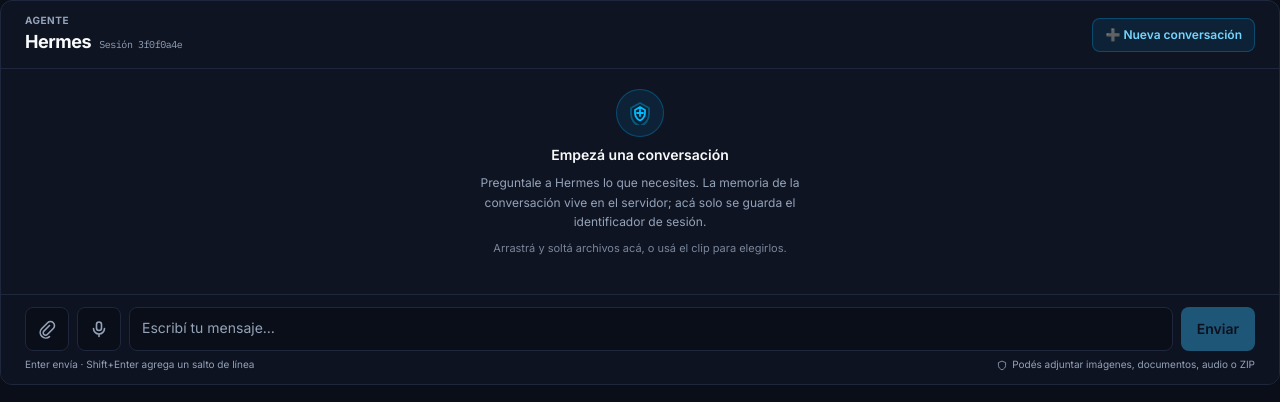
HermesChat › creates a run with the session id and the dashboard token, without Hermes headers
This screenshot has width=1280, height=402.
In the text box labelled "Escribí tu mensaje…": (651, 329) [129,307,1173,351], type "primer mensaje"
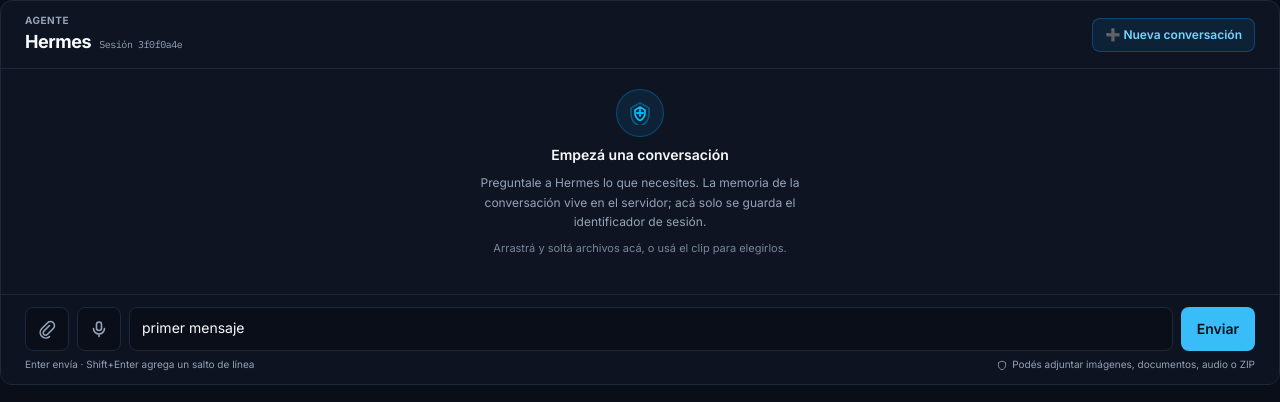
Click the button "Enviar": (1218, 329) [1181,307,1255,351]
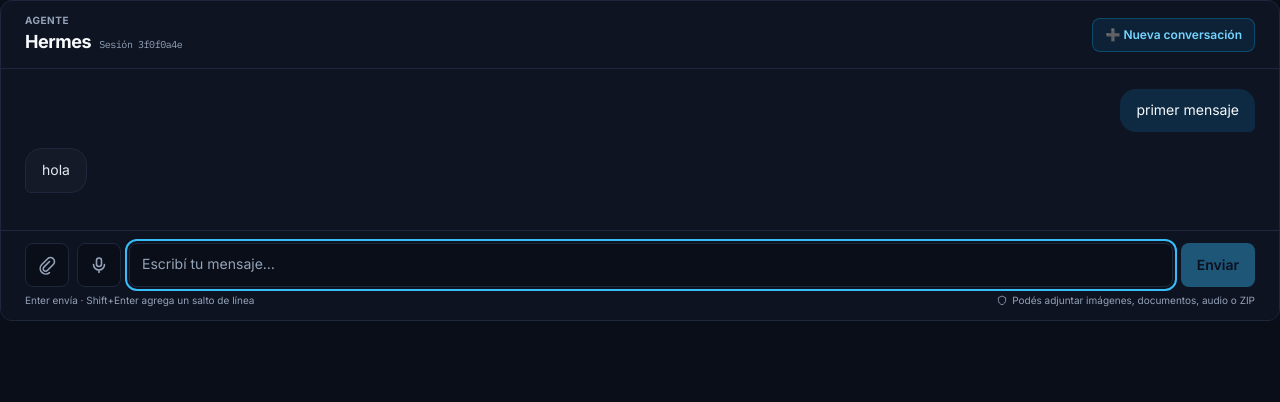
Expected: the element with test id "hermes-markdown" is shown, [42,159,70,182]
